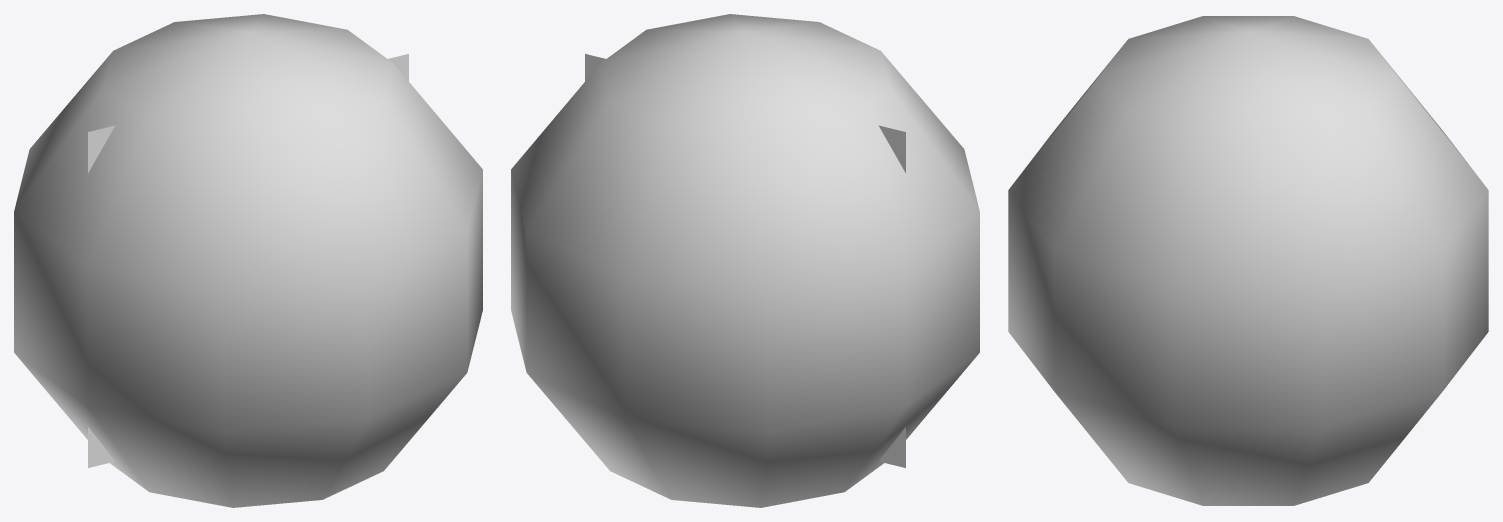
The model's file is double_jump.obj.
The picture shows the model from 3 angles, left to right: view 1: azimuth 30°, elevation 25°; view 2: azimuth 150°, elevation 25°; view 3: azimuth 270°, elevation 25°; orthographic projection.
Parts seen in each view (by area): view 1: Sphere001, Plane001; view 2: Sphere001, Plane001; view 3: Sphere001.
Boxes of the visible parts, x1,y1,x2,y2 form: Sphere001: (14,14,482,507); Plane001: (88,54,408,467); Sphere001: (511,14,979,507); Plane001: (585,54,905,467); Sphere001: (1008,16,1488,505).
Size of the model in its own units: 123 by 136 by 129.
2 materials, 1 textured.
